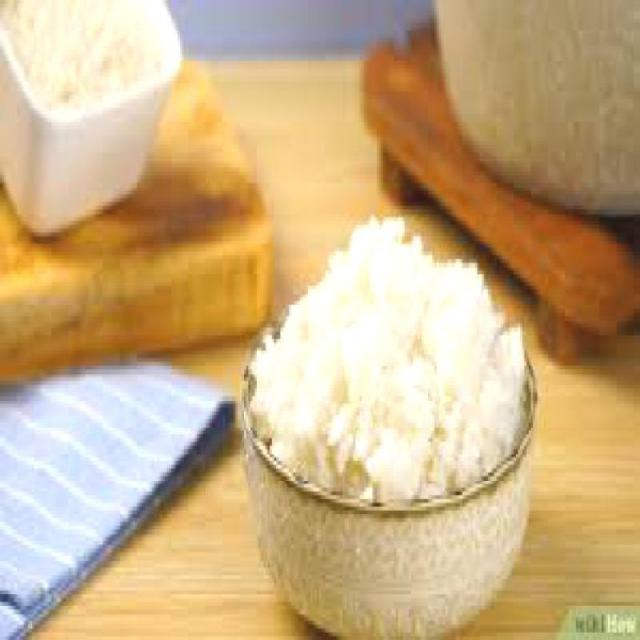rice: (252, 213, 526, 506)
